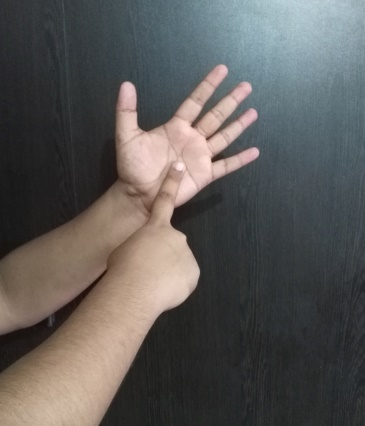oo: (109, 62, 263, 295)
